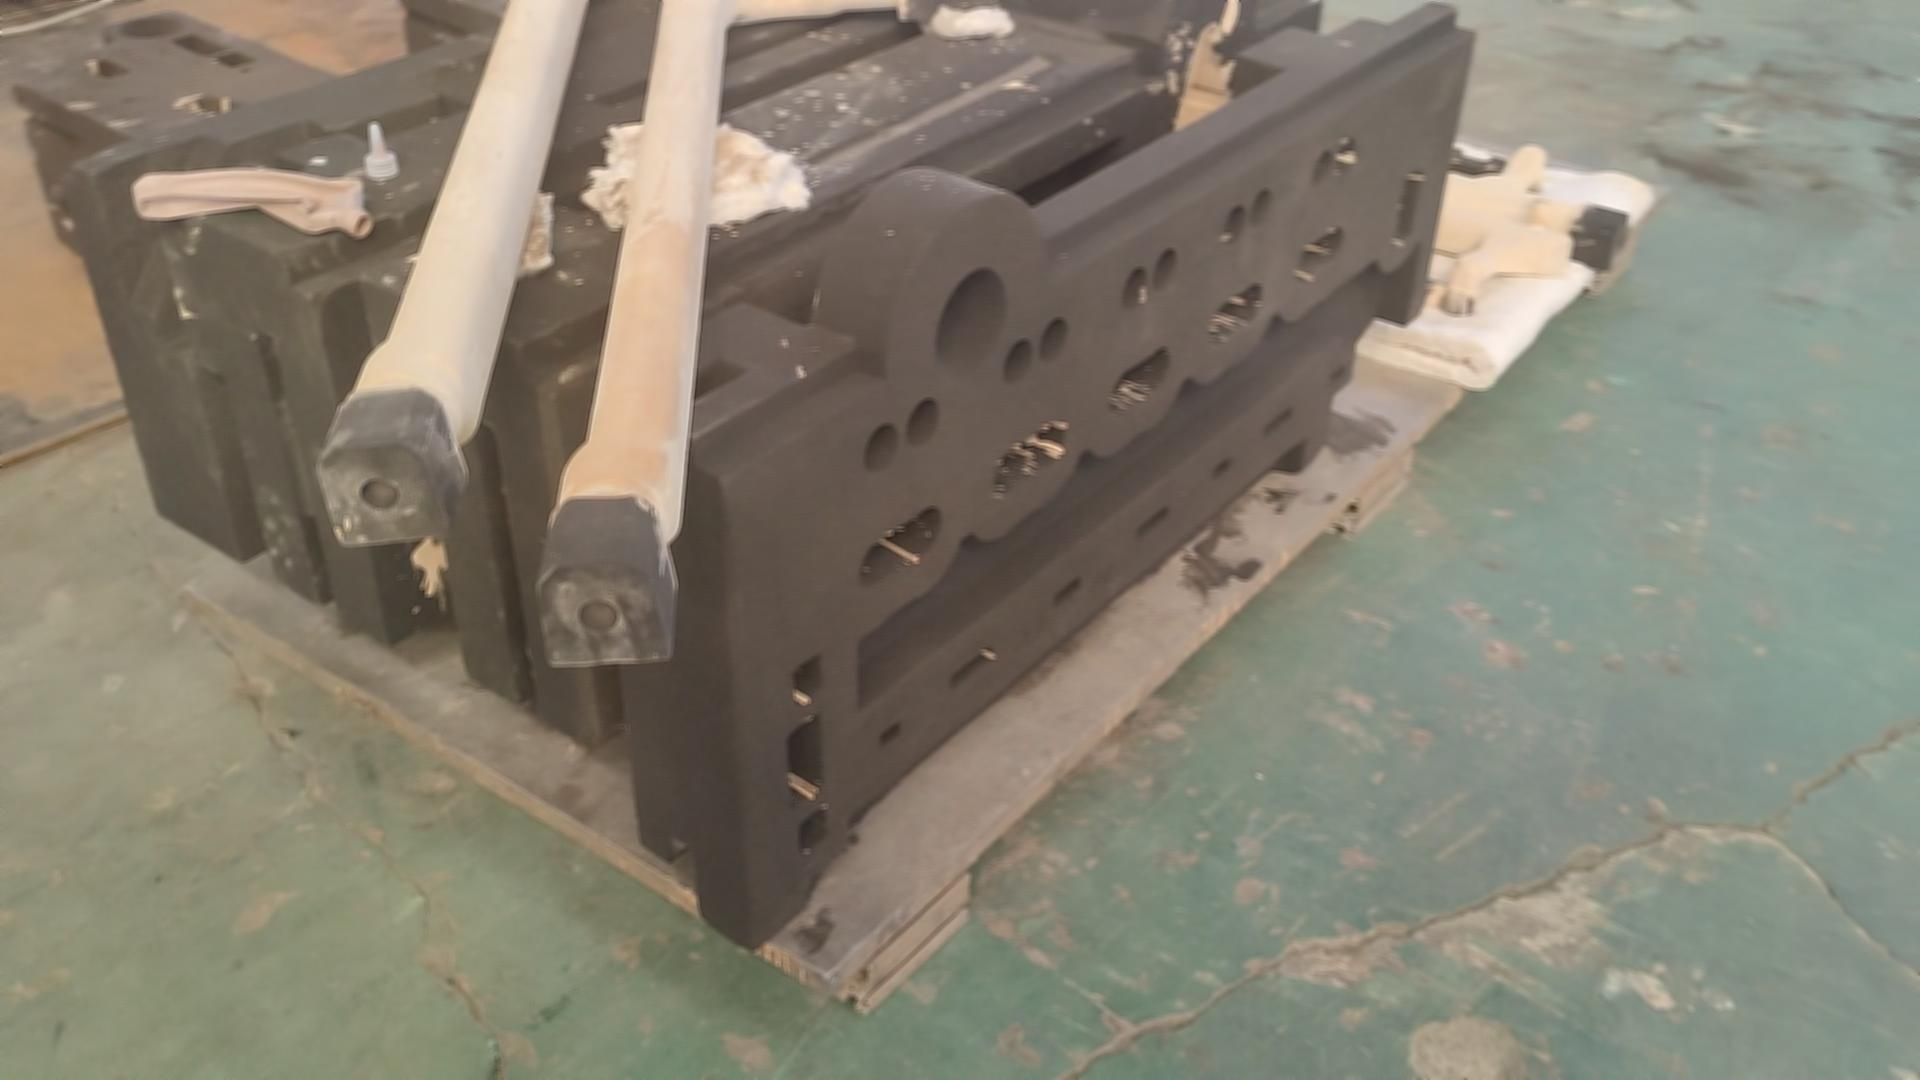pouring hole: (936, 268, 1007, 378), (120, 15, 185, 38)
